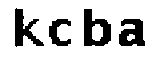a: (116, 17, 148, 48)
b: (79, 6, 112, 49)
c: (46, 16, 73, 49)
k: (9, 4, 46, 49)
